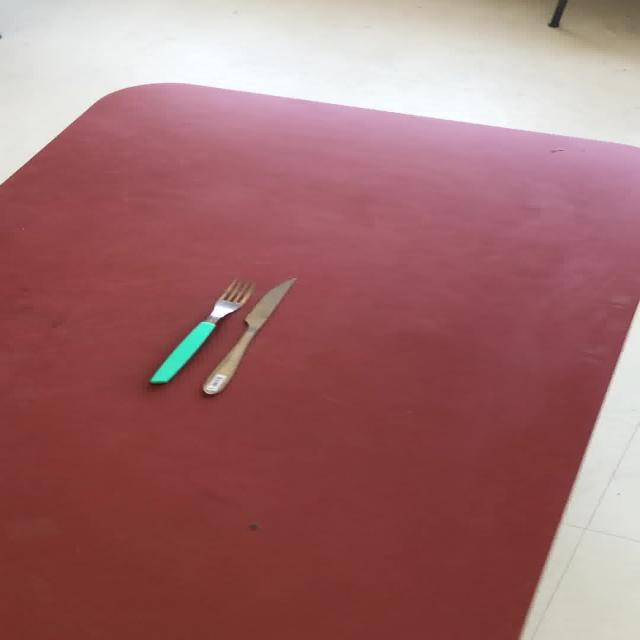fork: (147, 277, 254, 384)
knife fork: (200, 276, 296, 395)
